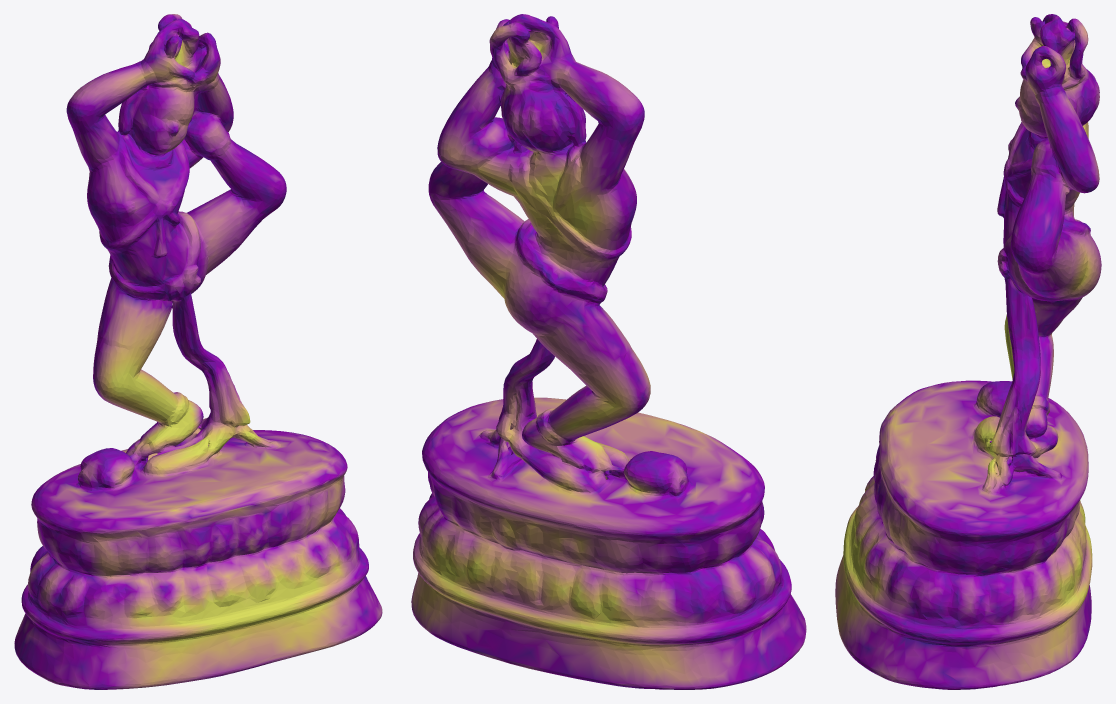
The model's file is iter_11.glb.
3 renders of one model, left to right at view 1: azimuth 30°, elevation 25°; view 2: azimuth 150°, elevation 25°; view 3: azimuth 270°, elevation 25°, orthographic. The views are drawn at different scales.
Visible parts, largest first — view 1: textured_mesh; view 2: textured_mesh; view 3: textured_mesh.
Part boxes in pixels (left/top/right/bottom): textured_mesh: left=14, top=14, right=382, bottom=689; textured_mesh: left=411, top=14, right=806, bottom=689; textured_mesh: left=835, top=14, right=1101, bottom=689.
Size of the model in its own units: 1.19 by 1.99 by 0.7923.
